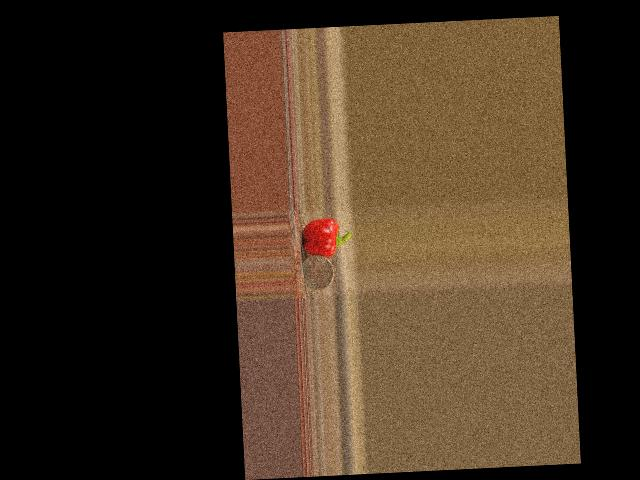bell_pepper: (300, 216, 351, 257)
